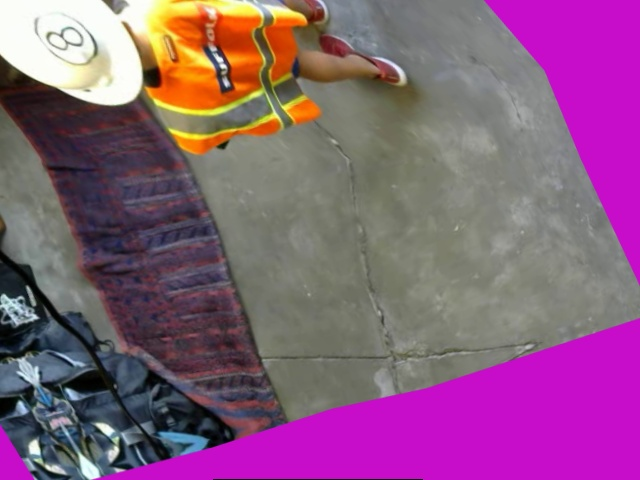eight: (19, 3, 107, 68)
